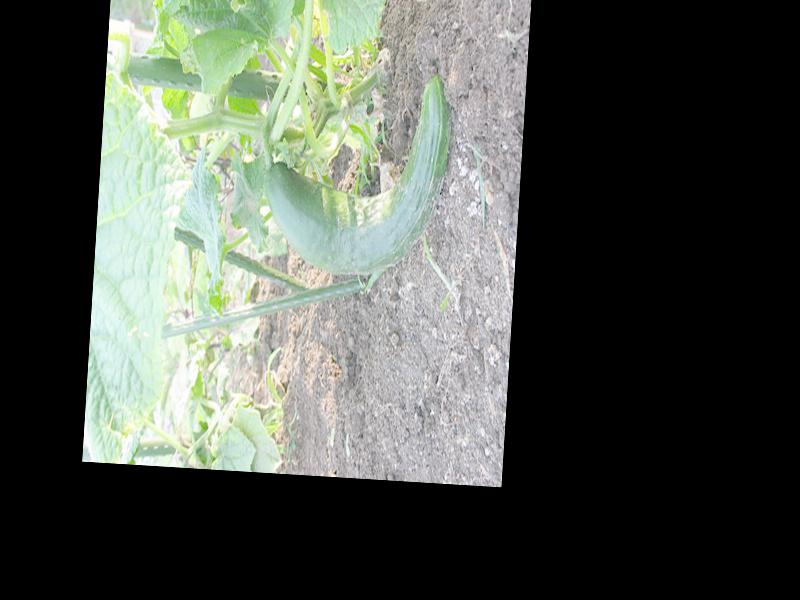Cucumber: (258, 63, 454, 282)
